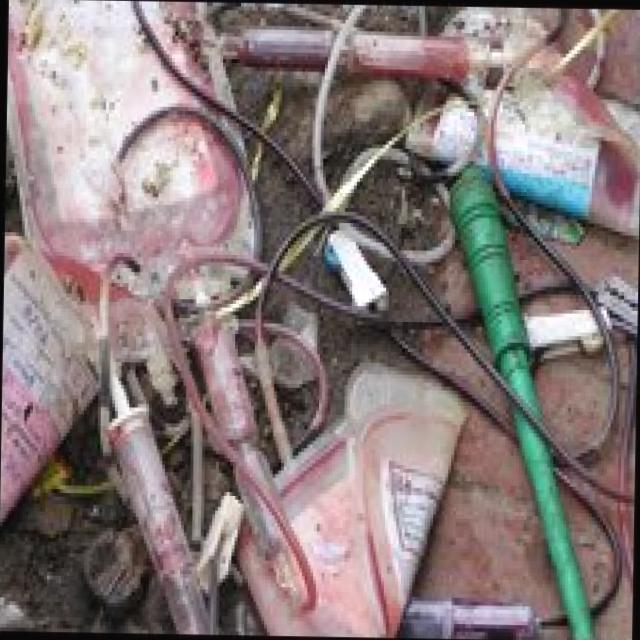garbage: (3, 2, 629, 632)
